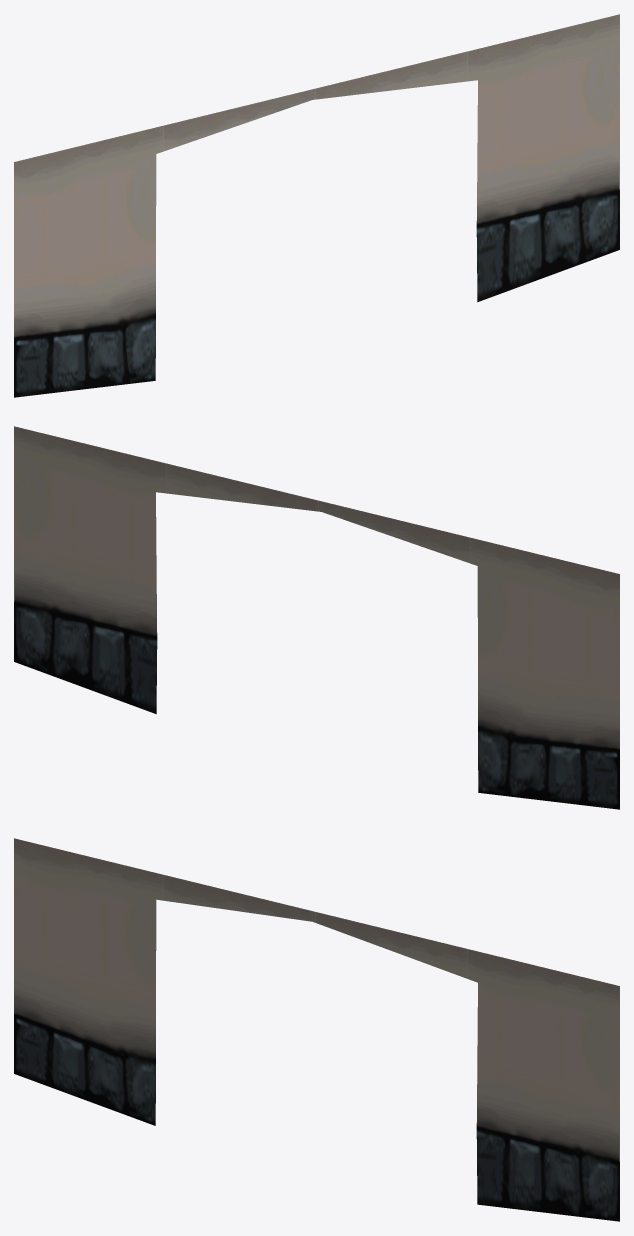
File: W_AI1_GroßesTor [Vergilbt]_599.glb
3 renders of one model, top to bottom at view 1: azimuth 30°, elevation 25°; view 2: azimuth 150°, elevation 25°; view 3: azimuth 330°, elevation 25°, orthographic.
Visible parts, largest first — view 1: polySurfaceShape793; view 2: polySurfaceShape793; view 3: polySurfaceShape793.
Part boxes in pixels (bbox=[...]): polySurfaceShape793: bbox=[14, 14, 619, 397]; polySurfaceShape793: bbox=[14, 426, 619, 809]; polySurfaceShape793: bbox=[14, 838, 619, 1221].
Bounding box in the file's own units: 0.9385 × 0.3748 × 5.62e-08.
Materials: 1 (1 with a texture image).
